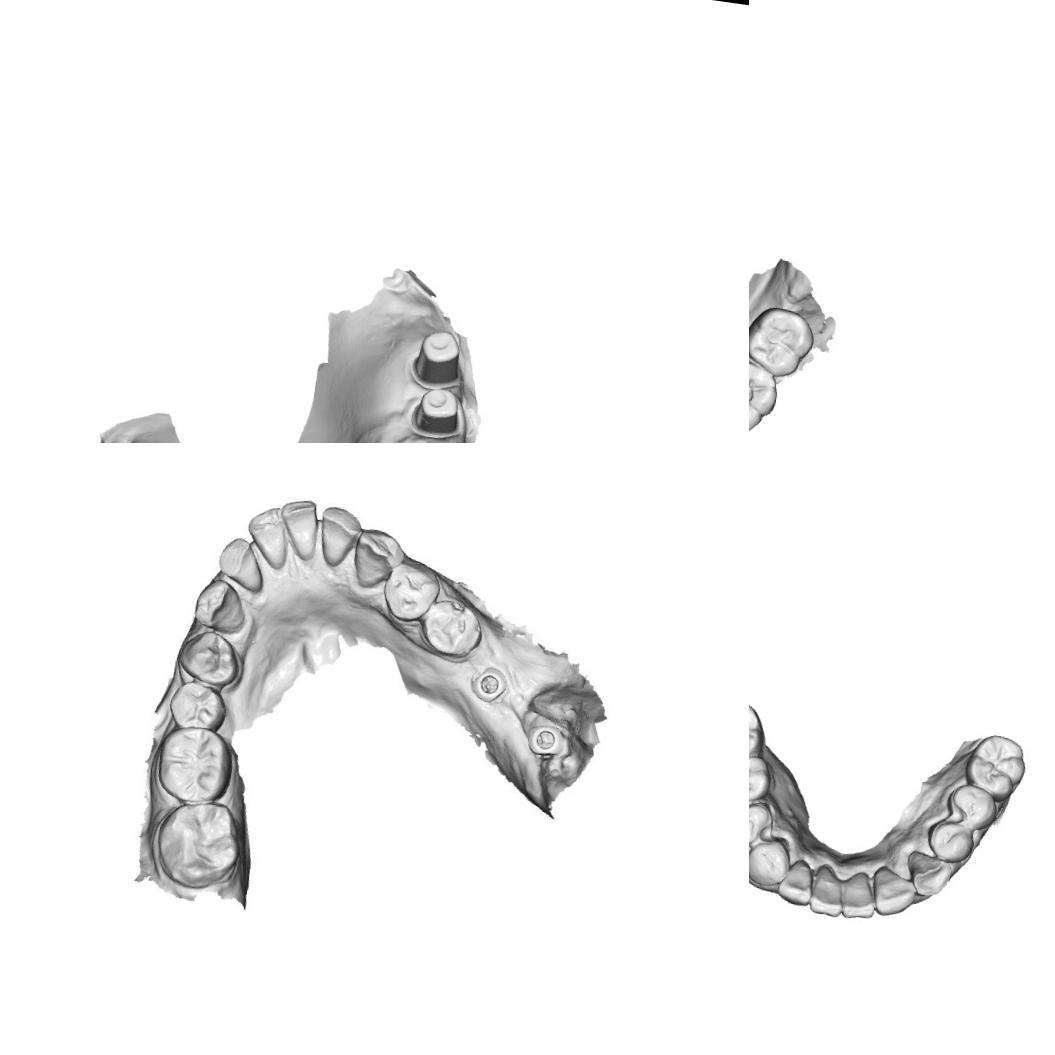abutment: (408, 324, 470, 392), (404, 382, 472, 442)
canine: (349, 526, 407, 592), (191, 575, 251, 636), (902, 849, 954, 900), (749, 831, 792, 888)
implant: (469, 664, 510, 705), (524, 722, 566, 758)
incisor: (243, 503, 294, 571), (213, 534, 269, 594), (314, 504, 364, 571), (273, 496, 323, 562), (868, 863, 918, 921), (807, 862, 848, 919), (837, 868, 880, 922), (774, 856, 816, 908)
molar: (150, 794, 248, 894), (152, 720, 238, 810), (749, 302, 818, 381), (960, 730, 1030, 806), (749, 350, 782, 437), (749, 696, 770, 776)
premolar: (379, 558, 444, 626), (418, 596, 487, 660), (174, 626, 244, 689), (166, 678, 230, 735), (944, 780, 1000, 832), (924, 816, 978, 866), (749, 750, 774, 809), (749, 796, 776, 850)
